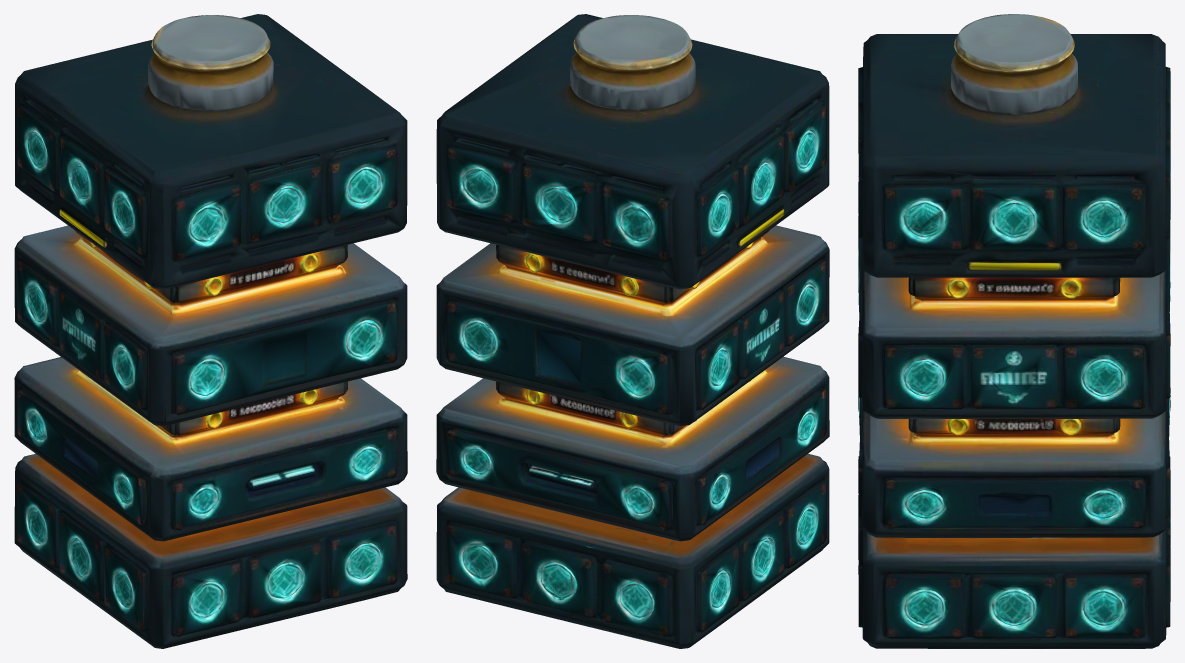
The model's file is hero-farm-sky-structure.glb.
The picture shows the model from 3 angles, left to right: view 1: azimuth 30°, elevation 25°; view 2: azimuth 150°, elevation 25°; view 3: azimuth 270°, elevation 25°; orthographic projection. The views are drawn at different scales.
Visible parts, largest first — view 1: node_0; view 2: node_0; view 3: node_0.
Part boxes in pixels (x1,y1,x2,y2): node_0: (14,14,407,648); node_0: (436,14,829,648); node_0: (858,14,1170,648).
Size of the model in its own units: 0.5172 by 1 by 0.5163.
Materials: 1 (1 with a texture image).
